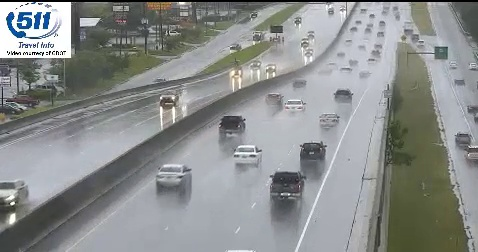car: (270, 171, 303, 201), (157, 164, 191, 187), (233, 145, 261, 165), (300, 142, 325, 162), (219, 115, 246, 133), (318, 113, 339, 128)
